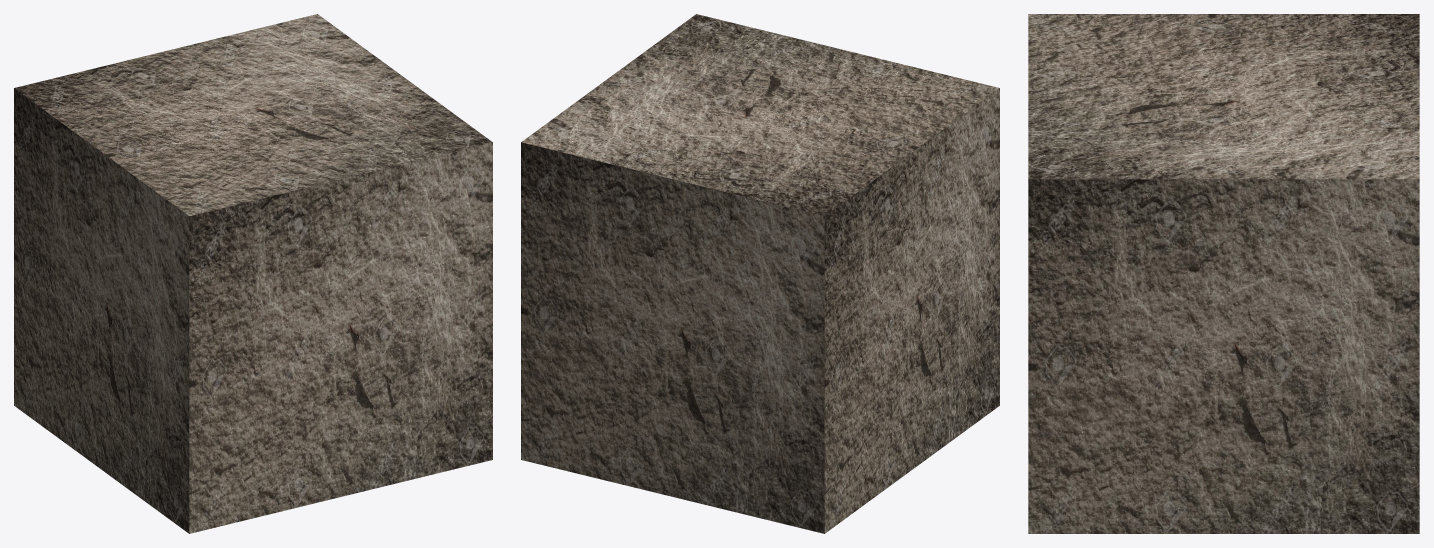
Rendered from tile.FBX.
3 views of the same model, side by side, from view 1: azimuth 30°, elevation 25°; view 2: azimuth 150°, elevation 25°; view 3: azimuth 270°, elevation 25° (orthographic). The views are drawn at different scales.
Visible parts, largest first — view 1: Box001; view 2: Box001; view 3: Box001.
Boxes of the visible parts, x1,y1,x2,y2 form: Box001: [14, 14, 492, 533]; Box001: [521, 14, 999, 533]; Box001: [1028, 14, 1419, 533].
Bounding box in the file's own units: 10 × 10 × 10.
1 material, 1 textured.
